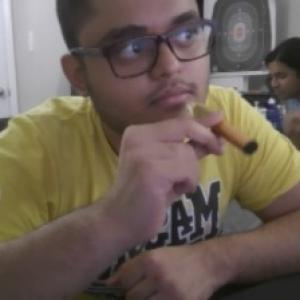Golden-E-Ciggirate: (185, 96, 261, 155)
